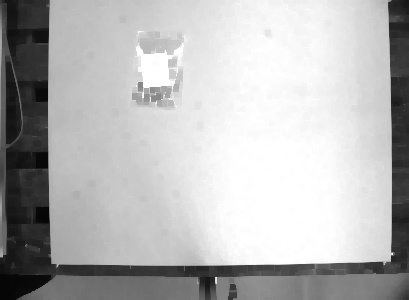t2: (128, 26, 187, 109)
